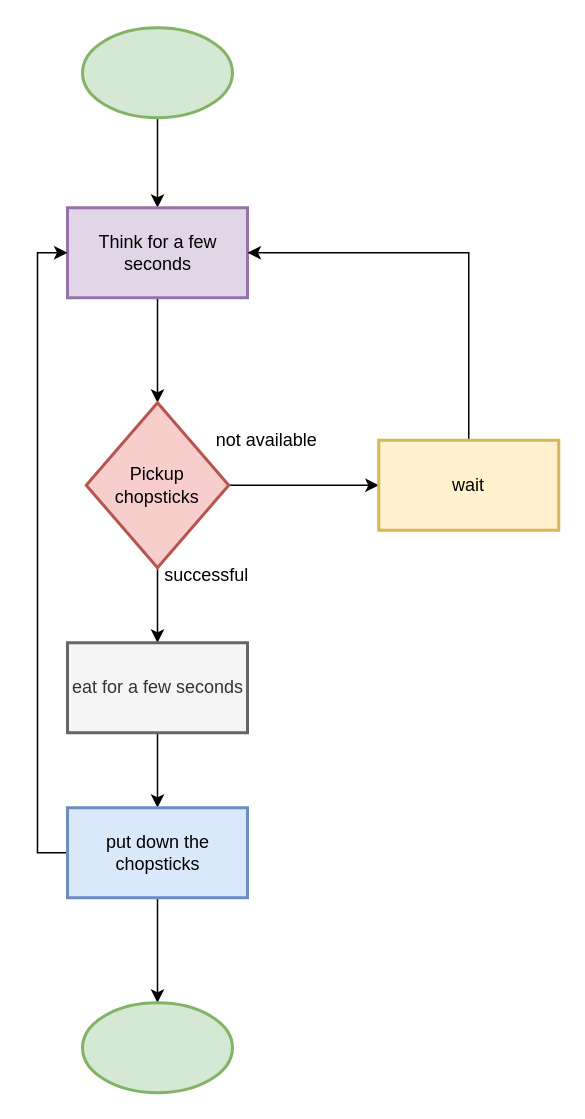
Image size: 585x1119. Some labels were removed from this diagram. Here are the shapes that lost their labels. From the top down, the centre of each, then its label:
At point 156,72: "Philosopher Joined".
At point 156,1047: "End".
